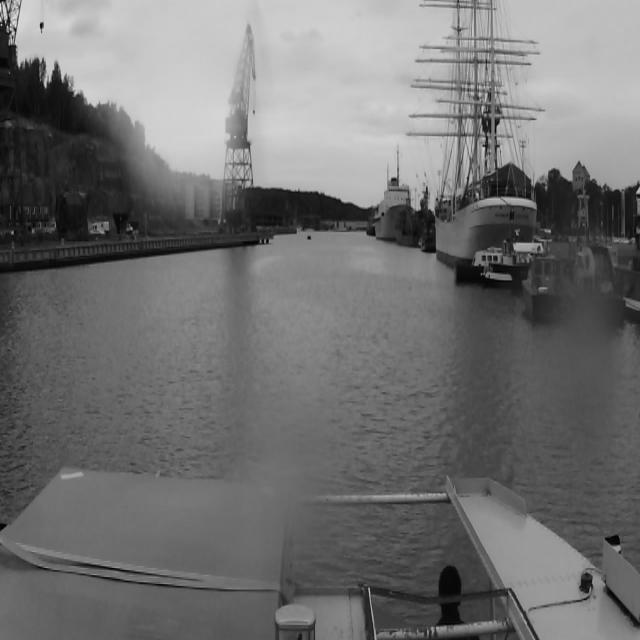ship: (407, 8, 549, 238), (526, 255, 572, 319), (390, 188, 438, 246), (454, 249, 524, 283), (374, 177, 410, 238), (582, 282, 624, 327), (418, 185, 436, 253), (397, 205, 417, 247), (366, 223, 376, 236), (307, 235, 311, 240)
